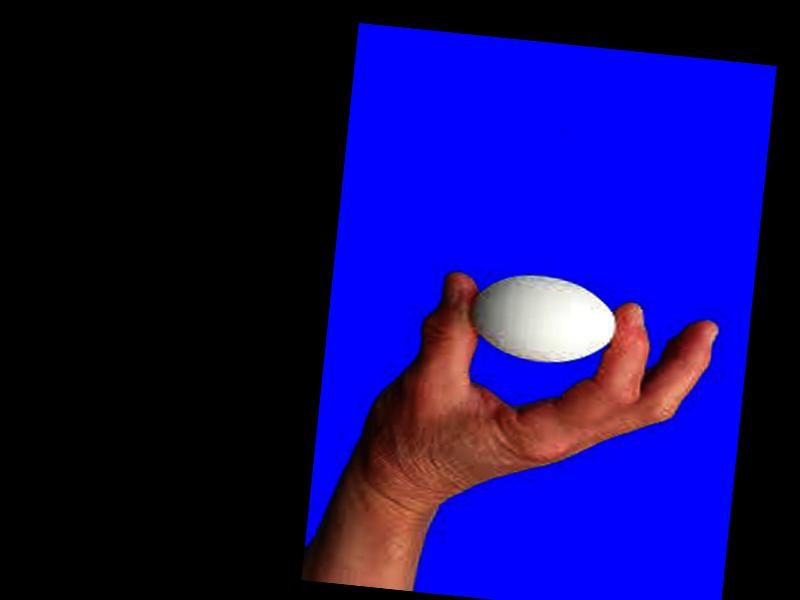Eggs: (467, 269, 623, 369)
